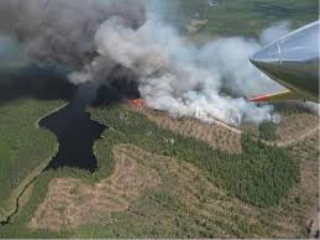fire: (127, 95, 146, 106)
smoke: (16, 4, 266, 118)
